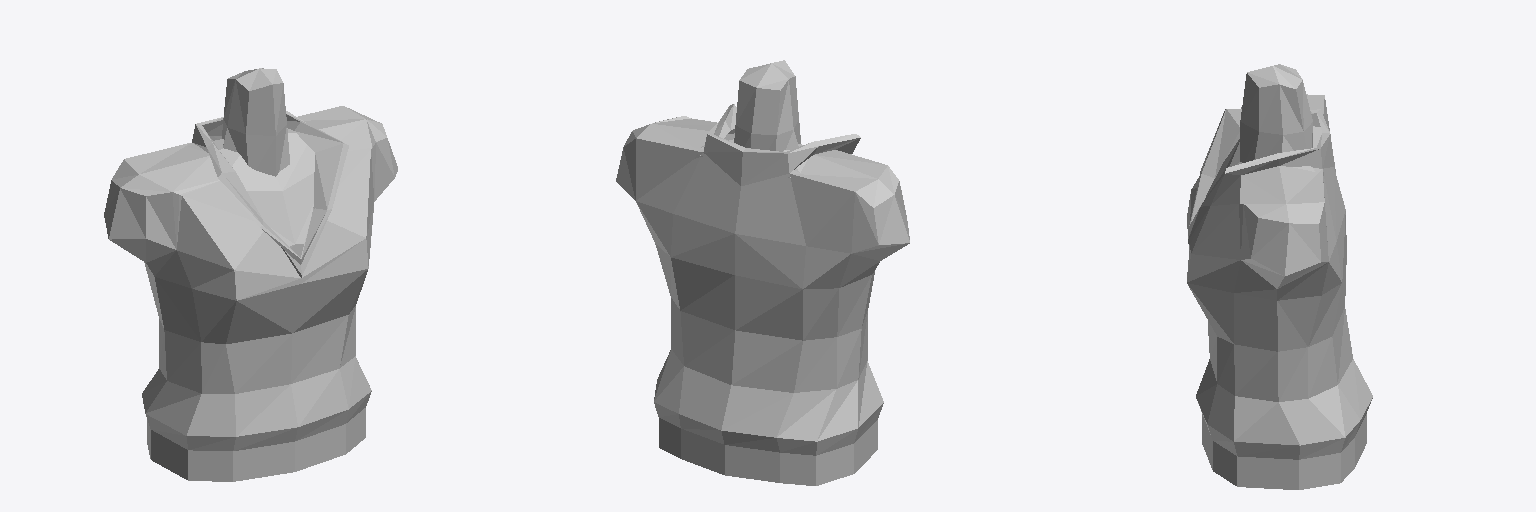
The model's file is body.obj.
3 renders of one model, left to right at view 1: azimuth 30°, elevation 25°; view 2: azimuth 150°, elevation 25°; view 3: azimuth 270°, elevation 25°, orthographic.
Parts seen in each view (by area): view 1: pCube5 polySurface12, pCube9, polySurface11 pCube5; view 2: pCube5 polySurface12, pCube9; view 3: pCube5 polySurface12, pCube9, polySurface11 pCube5.
Part boxes in pixels (x1,y1,x2,y2): pCube5 polySurface12: (104, 106, 397, 481); pCube9: (222, 68, 289, 176); polySurface11 pCube5: (188, 128, 314, 257); pCube5 polySurface12: (616, 104, 909, 485); pCube9: (734, 60, 800, 151); pCube5 polySurface12: (1187, 94, 1372, 489); pCube9: (1240, 64, 1312, 162); polySurface11 pCube5: (1205, 126, 1323, 198).
Size of the model in its own units: 13.69 by 17.18 by 7.64.